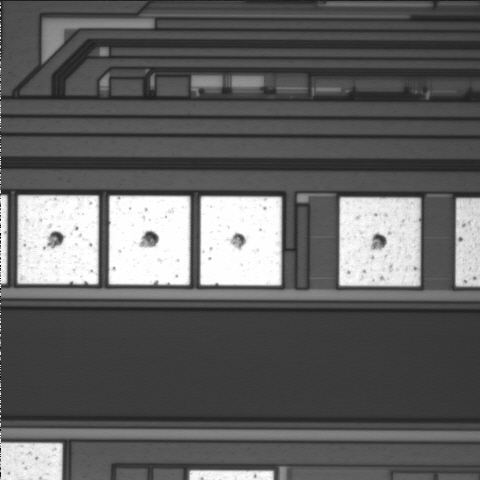pad: (17, 195, 99, 284), (200, 196, 282, 285), (339, 197, 421, 286), (109, 196, 190, 285)
